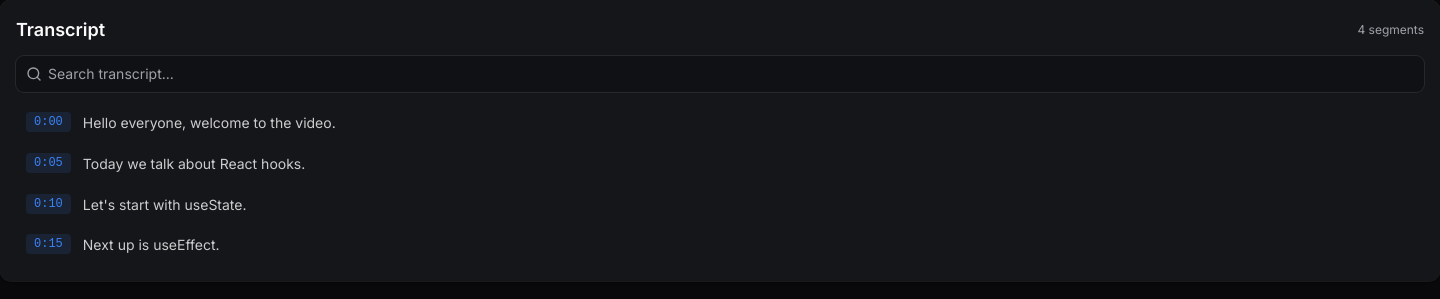
Test case: TranscriptViewer › filters segments by search
Type "hooks" into the field with placeholder "Search transcript...".
click(720, 74); type("hooks")  # box [16,56,1424,92]
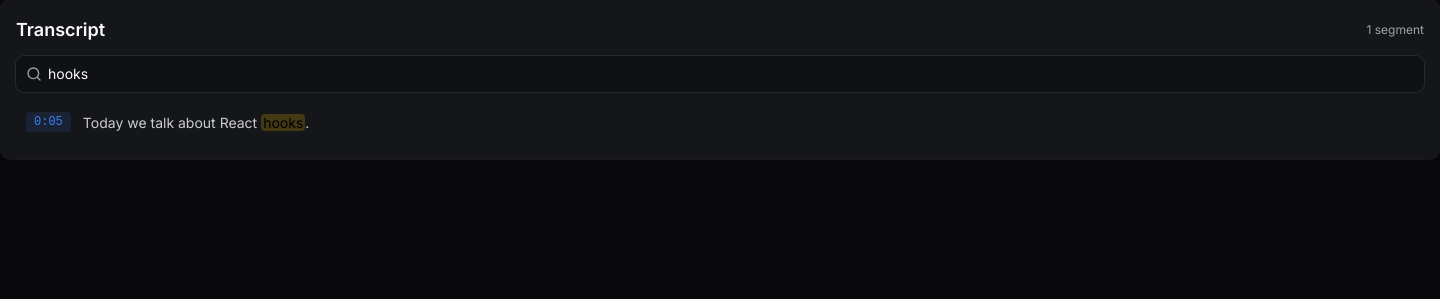
Expected: the text "hooks" is shown, [261,114,305,131]
Now the button "Hello everyone, welcome to the video." is gone
Now the text "1 segment" is shown, box [1366,22,1424,38]
